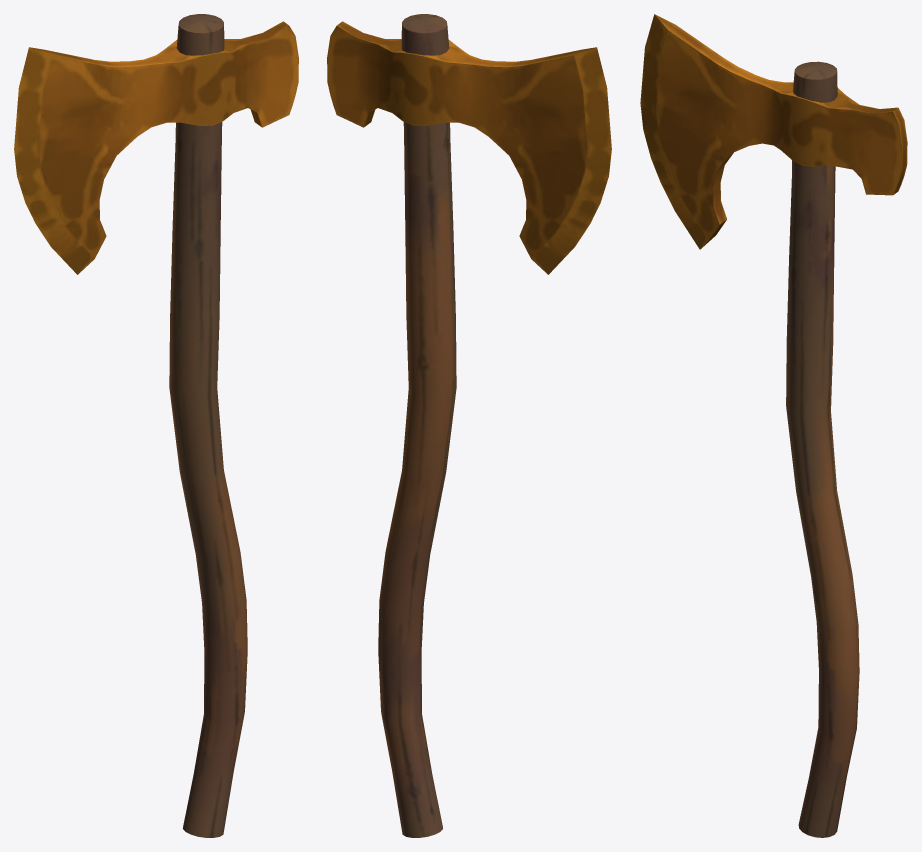
File: Axe_Bronze.glb
3 views of the same model, side by side, from view 1: azimuth 30°, elevation 25°; view 2: azimuth 150°, elevation 25°; view 3: azimuth 330°, elevation 25° (orthographic). The views are drawn at different scales.
Parts seen in each view (by area): view 1: Axe_Bronze; view 2: Axe_Bronze; view 3: Axe_Bronze.
Boxes of the visible parts, x1,y1,x2,y2 form: Axe_Bronze: (14,14,298,837); Axe_Bronze: (327,14,611,837); Axe_Bronze: (640,14,907,837).
Size of the model in its own units: 0.2945 by 0.8269 by 0.046.
1 material, 1 textured.
